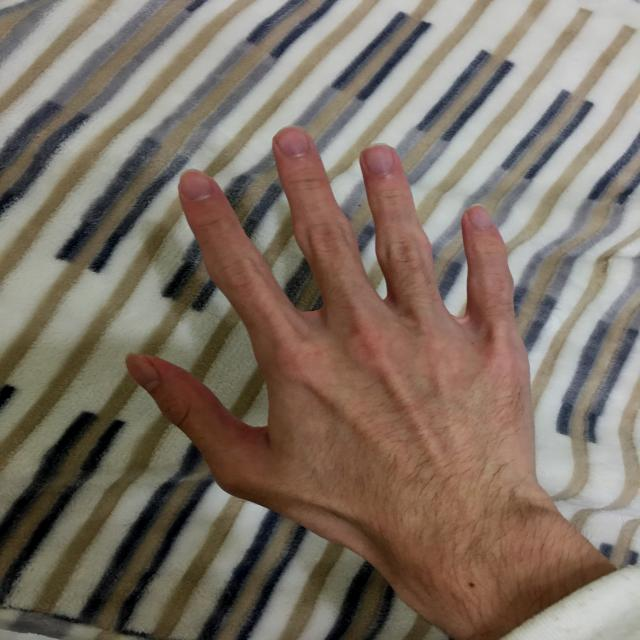no_glove: (98, 107, 540, 580)
